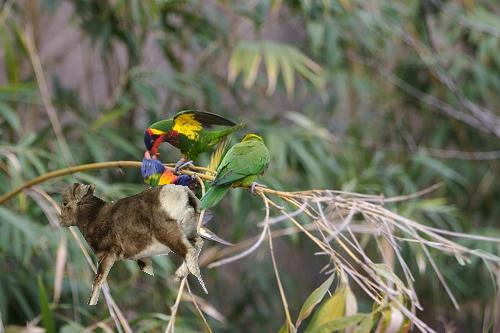tampered: (59, 184, 208, 305)
